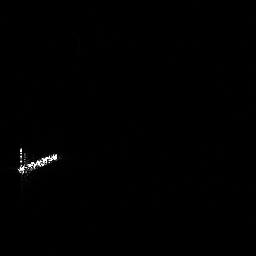ship: (13, 144, 62, 179)
